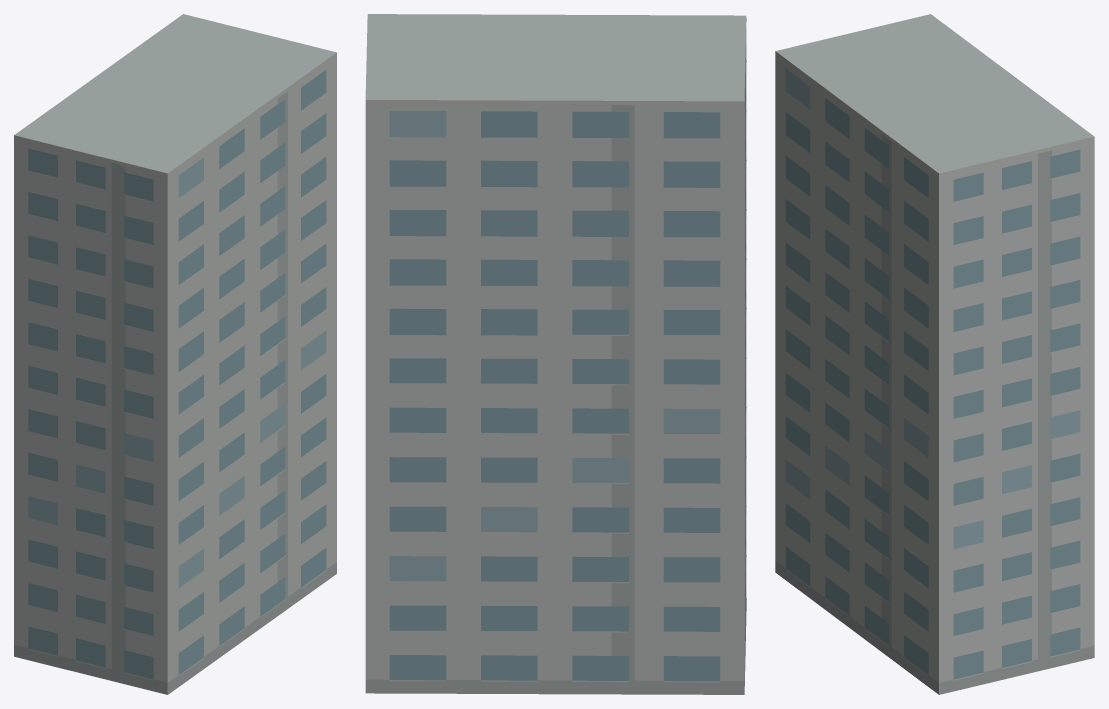
The model's file is residential-e2970386-be81-4056-bc7d-3880bb013fe5.glb.
The picture shows the model from 3 angles, left to right: view 1: azimuth 30°, elevation 25°; view 2: azimuth 150°, elevation 25°; view 3: azimuth 270°, elevation 25°; orthographic projection. The views are drawn at different scales.
Parts seen in each view (by area): view 1: residential-e2970386-be81-4056-bc7d-3880bb013fe5.tmp; view 2: residential-e2970386-be81-4056-bc7d-3880bb013fe5.tmp; view 3: residential-e2970386-be81-4056-bc7d-3880bb013fe5.tmp.
Part boxes in pixels (bbox=[...]): residential-e2970386-be81-4056-bc7d-3880bb013fe5.tmp: bbox=[14, 14, 336, 694]; residential-e2970386-be81-4056-bc7d-3880bb013fe5.tmp: bbox=[365, 14, 746, 694]; residential-e2970386-be81-4056-bc7d-3880bb013fe5.tmp: bbox=[775, 14, 1094, 694].
Size of the model in its own units: 22.32 by 34 by 18.87.
